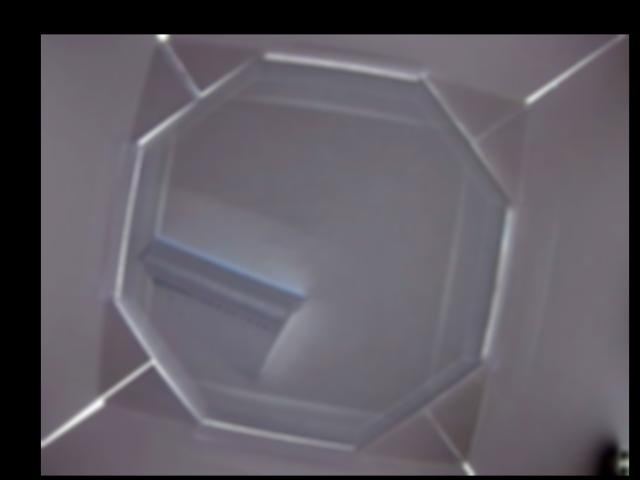China: (136, 239, 303, 377)
